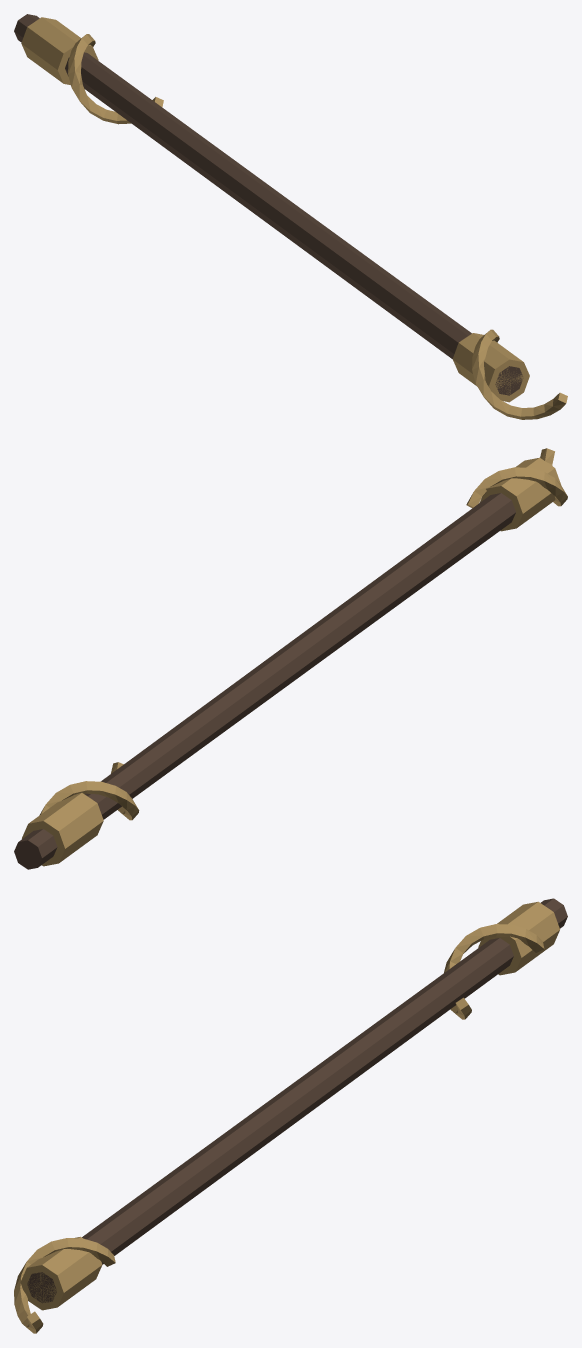
Rendered from iron_staff.glb.
The picture shows the model from 3 angles, top to bottom: view 1: azimuth 30°, elevation 25°; view 2: azimuth 150°, elevation 25°; view 3: azimuth 330°, elevation 25°; orthographic projection. The views are drawn at different scales.
Visible parts, largest first — view 1: BladeMesh; view 2: BladeMesh; view 3: BladeMesh.
Boxes of the visible parts, <box> form: BladeMesh: <box>14,14,567,419</box>; BladeMesh: <box>14,448,567,869</box>; BladeMesh: <box>14,898,567,1333</box>.
Size of the model in its own units: 0.1796 by 0.18 by 2.83.
